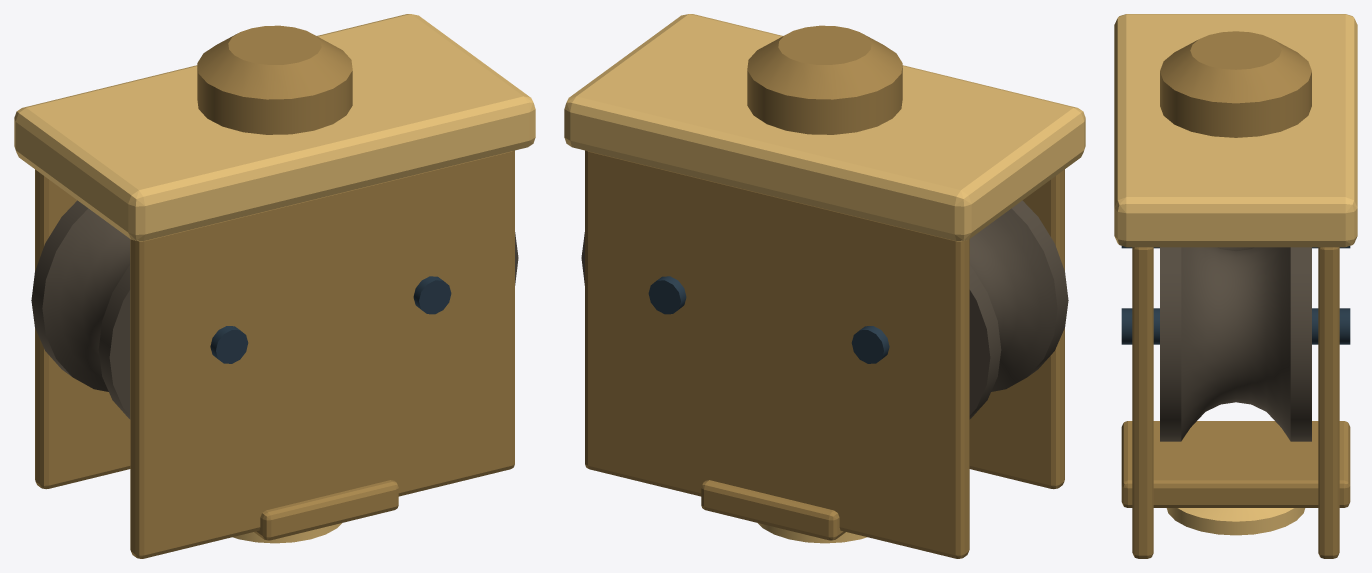
The model's file is sanctum-trolley-v01.glb.
The picture shows the model from 3 angles, left to right: view 1: azimuth 30°, elevation 25°; view 2: azimuth 150°, elevation 25°; view 3: azimuth 270°, elevation 25°; orthographic projection. The views are drawn at different scales.
Visible parts, largest first — view 1: Shadow brass 2, Shadow brass light 3, Shadow bronze dark 0, Shadow iron dark 1; view 2: Shadow brass 2, Shadow brass light 3, Shadow bronze dark 0, Shadow iron dark 1; view 3: Shadow brass light 3, Shadow brass 2, Shadow bronze dark 0, Shadow iron dark 1.
Part boxes in pixels (box(x1,y1,x2,y2)): Shadow brass 2: box(35, 25, 514, 558); Shadow brass light 3: box(14, 14, 535, 543); Shadow bronze dark 0: box(31, 200, 518, 419); Shadow iron dark 1: box(210, 276, 451, 363); Shadow brass 2: box(585, 25, 1064, 558); Shadow brass light 3: box(564, 14, 1085, 543); Shadow bronze dark 0: box(581, 200, 1068, 419); Shadow iron dark 1: box(648, 276, 889, 363); Shadow brass light 3: box(1114, 14, 1357, 535); Shadow brass 2: box(1121, 31, 1350, 558); Shadow bronze dark 0: box(1160, 247, 1311, 441); Shadow iron dark 1: box(1121, 246, 1350, 344).
Bounding box in the file's own units: 0.302 × 0.33 × 0.16.
